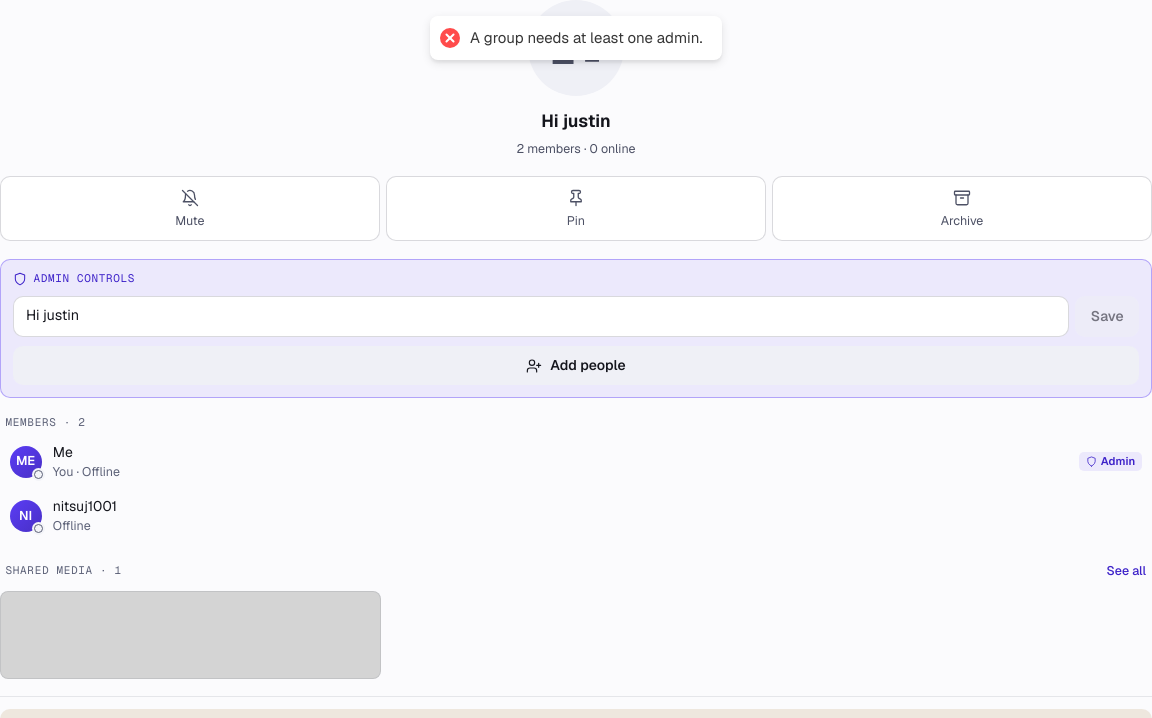
GroupInfoPanel — admin actions › adds the chosen contacts who aren’t in the group yet, one request each
The width and height of the screenshot is (1152, 718).
Click the button "Add people" at (576, 366), box [13,346,1139,385]
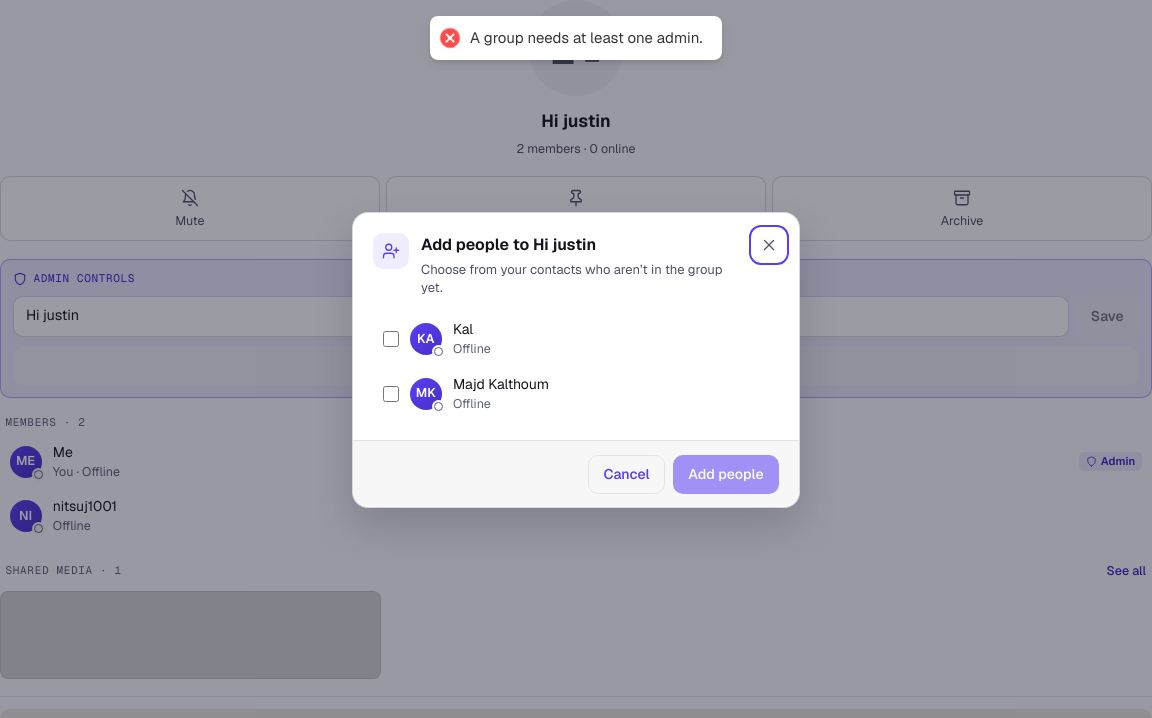
Check: the text "Kal" is shown, box [453,320,473,338]
Click the checkbox labelled "KA Kal Offline" at (391, 339), box [383,331,399,347]
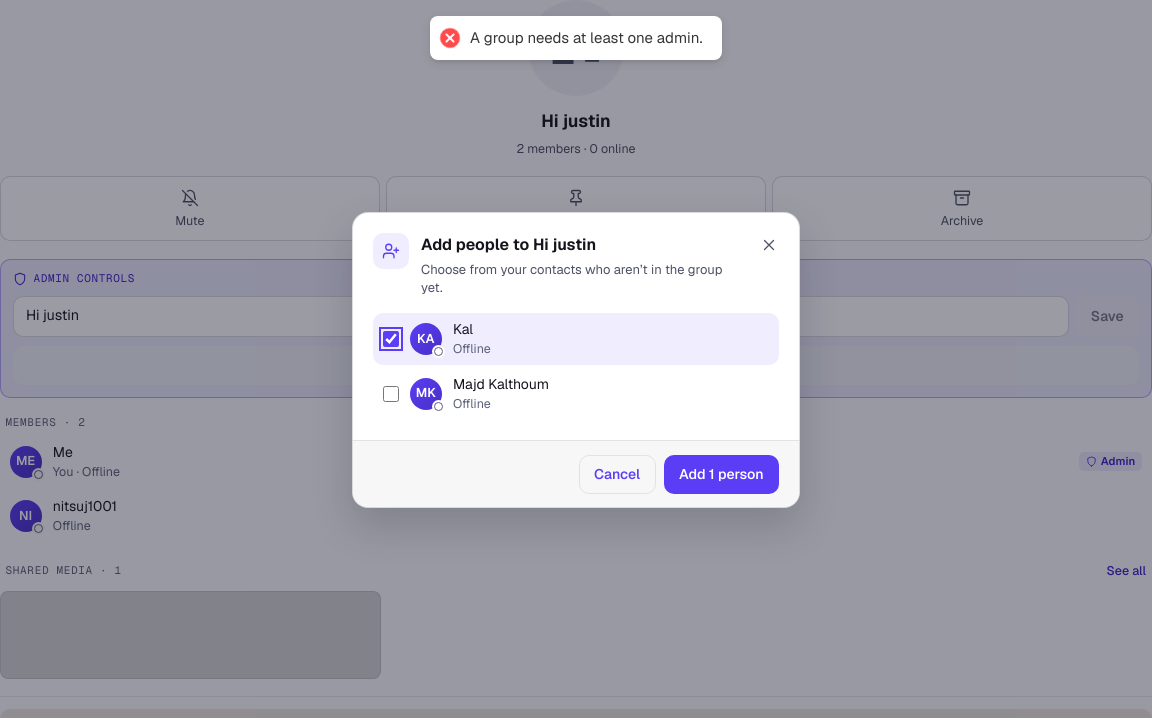
Click the 2nd checkbox at (391, 394), box [383,386,399,402]
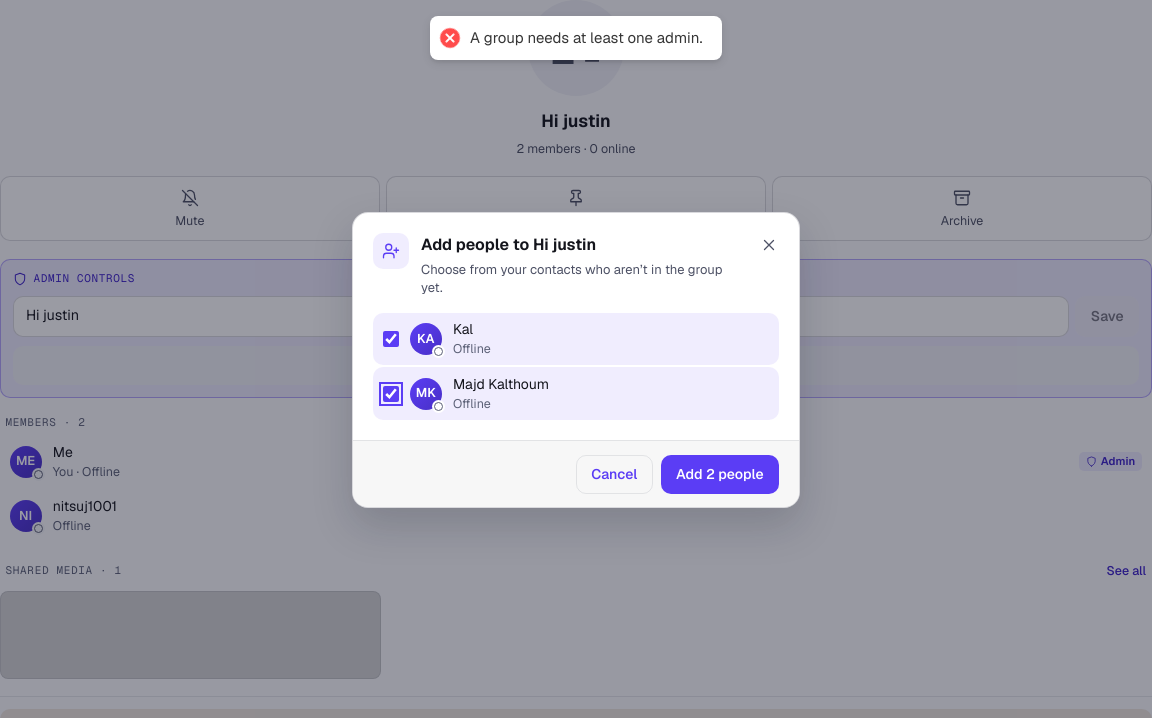
Click the button "Add 2 people" at (720, 474), box [661,454,779,494]
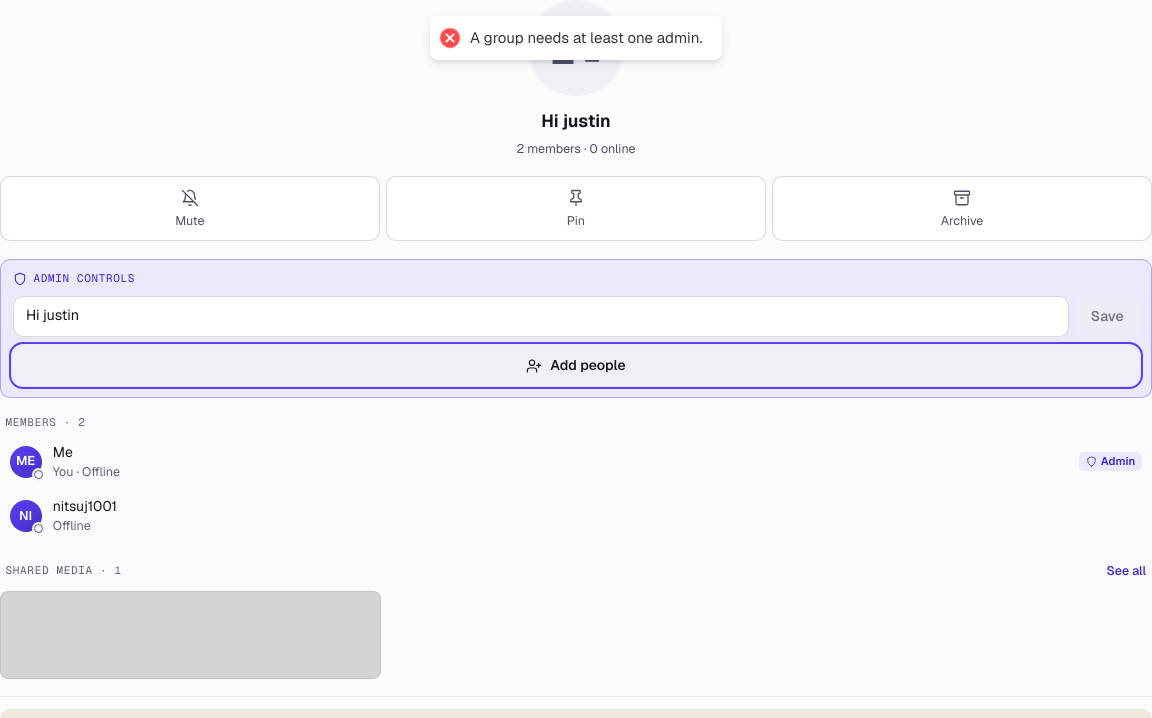
Check: the dialog is gone
